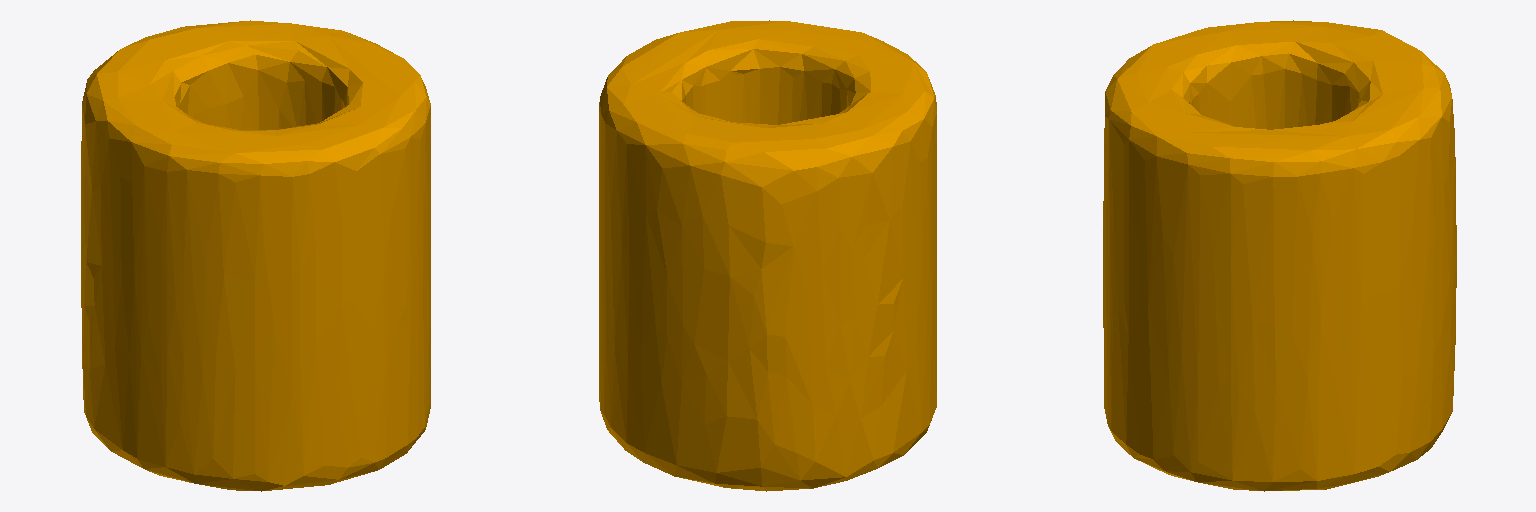
The robot description file, URDF, robot "toilet_paper_poisson_003":
<?xml version="1.0"?>
<robot name="toilet_paper_poisson_003">
  <link name="base_link">
    <contact>
      <lateral_friction value="1.0"/>
      <rolling_friction value="0.0"/>
      <contact_cfm value="0.0"/>
      <contact_erp value="1.0"/>
    </contact>
    <inertial>
      <mass value="0.567458923038"/>
      <inertia ixx="1" ixy="0" ixz="0" iyy="1" iyz="0" izz="1"/>
    </inertial>
    <visual>
      <geometry>
        <mesh filename="toilet_paper_poisson_003_visual.obj"/>
      </geometry>
    </visual>
    <collision>
      <geometry>
        <mesh filename="toilet_paper_poisson_003_collision.obj"/>
      </geometry>
    </collision>
  </link>
</robot>

--- Facts derived from the render (not from the file) ---
The picture shows the robot from 3 angles, left to right: view 1: azimuth 30°, elevation 25°; view 2: azimuth 150°, elevation 25°; view 3: azimuth 270°, elevation 25°; orthographic projection.
Robot: toilet_paper_poisson_003 — 1 links, 0 joints (none); root link base_link; default pose: all joints at 0.
Links seen in each view (by area): view 1: base_link; view 2: base_link; view 3: base_link.
Boxes of the visible links, box(x1,y1,x2,y2) form: base_link: box(81, 20, 430, 491); base_link: box(599, 20, 936, 491); base_link: box(1103, 20, 1456, 491).
Size in the robot's own frame: 0.068 by 0.07 by 0.0763 metres.
Meshes: 1 distinct files referenced, 1 mesh visuals loaded (1 OBJ).